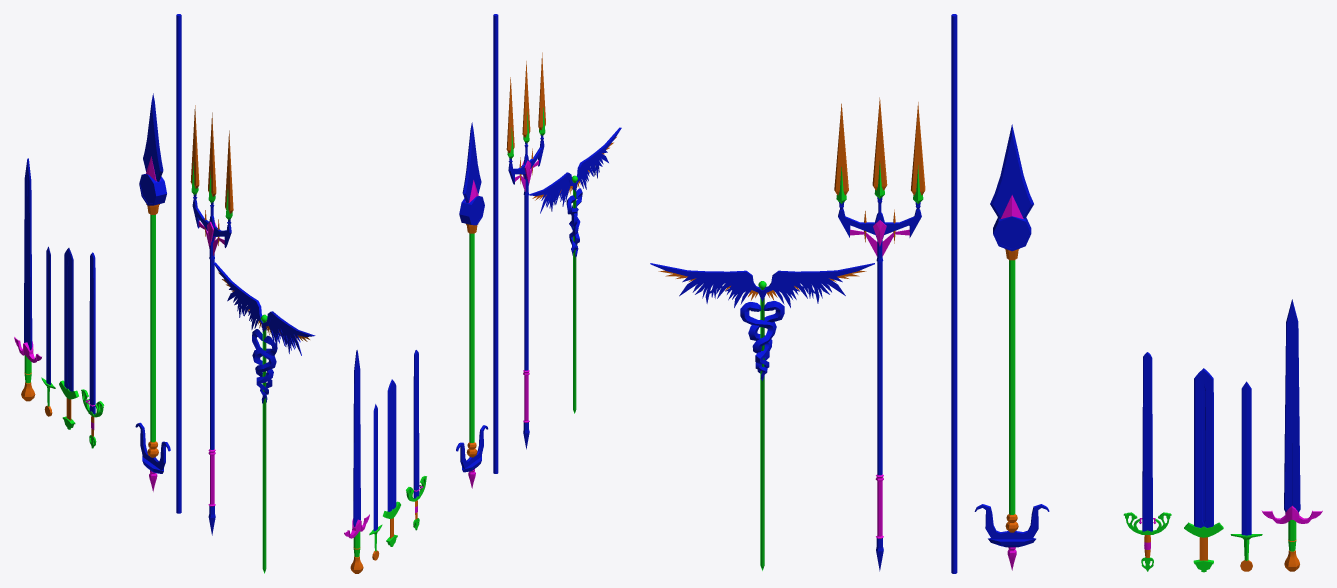
File: weapons.fbx
3 renders of one model, left to right at view 1: azimuth 30°, elevation 25°; view 2: azimuth 150°, elevation 25°; view 3: azimuth 270°, elevation 25°, orthographic. The views are drawn at different scales.
Visible parts, largest first — view 1: Vasavi Shakti, Caduceus, Trident, Ruyi Jingu Bang, Clarent, Gram, Tizona, Durandal; view 2: Vasavi Shakti, Trident, Caduceus, Ruyi Jingu Bang, Clarent, Gram, Tizona, Durandal; view 3: Caduceus, Vasavi Shakti, Trident, Clarent, Ruyi Jingu Bang, Gram, Tizona, Durandal.
Part boxes in pixels (left/top/right/bottom): Vasavi Shakti: left=135, top=93, right=170, bottom=491; Caduceus: left=213, top=262, right=315, bottom=573; Trident: left=190, top=105, right=233, bottom=535; Ruyi Jingu Bang: left=176, top=14, right=181, bottom=513; Clarent: left=14, top=158, right=41, bottom=401; Gram: left=59, top=248, right=78, bottom=429; Tizona: left=81, top=252, right=104, bottom=448; Durandal: left=41, top=246, right=55, bottom=416; Vasavi Shakti: left=456, top=122, right=488, bottom=488; Trident: left=506, top=52, right=545, bottom=449; Caduceus: left=529, top=127, right=621, bottom=413; Ruyi Jingu Bang: left=493, top=14, right=498, bottom=473; Clarent: left=344, top=350, right=369, bottom=573; Gram: left=383, top=379, right=400, bottom=546; Tizona: left=406, top=350, right=426, bottom=530; Durandal: left=369, top=404, right=382, bottom=560; Caduceus: left=650, top=263, right=874, bottom=570; Vasavi Shakti: left=974, top=124, right=1049, bottom=570; Trident: left=834, top=97, right=925, bottom=571; Clarent: left=1261, top=299, right=1322, bottom=571; Ruyi Jingu Bang: left=951, top=14, right=957, bottom=573; Gram: left=1184, top=368, right=1223, bottom=572; Tizona: left=1123, top=352, right=1171, bottom=571; Durandal: left=1230, top=381, right=1262, bottom=571.
Bounding box in the file's own units: 9.67 × 334 × 365.
